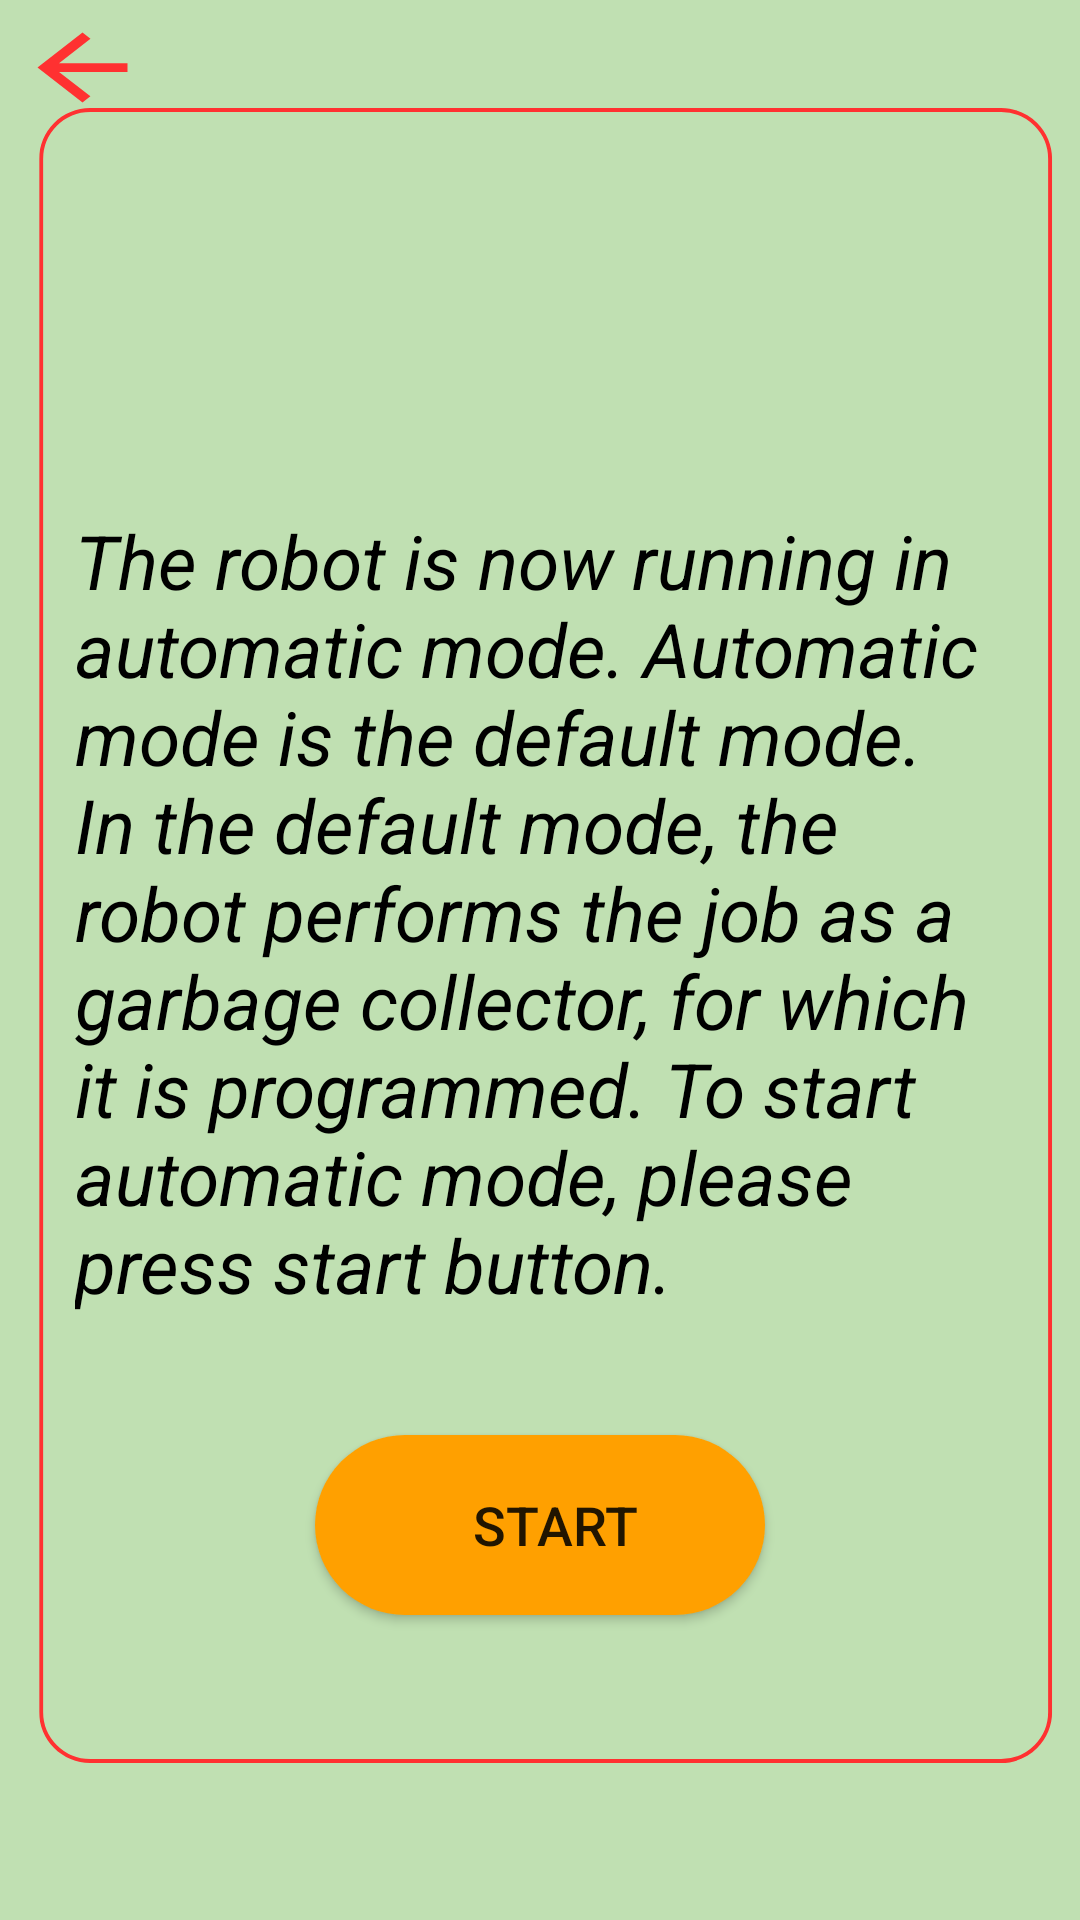

Screen size 1080 × 1920. Icon name, then its center in pixels as point (x, y):
back: point (82, 67)
